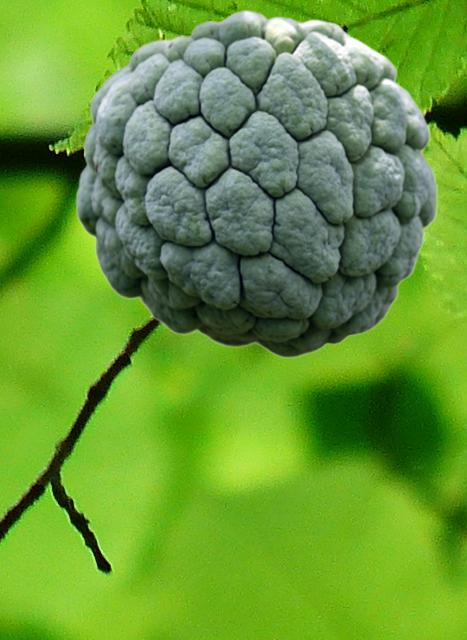atis: (75, 9, 437, 358)
